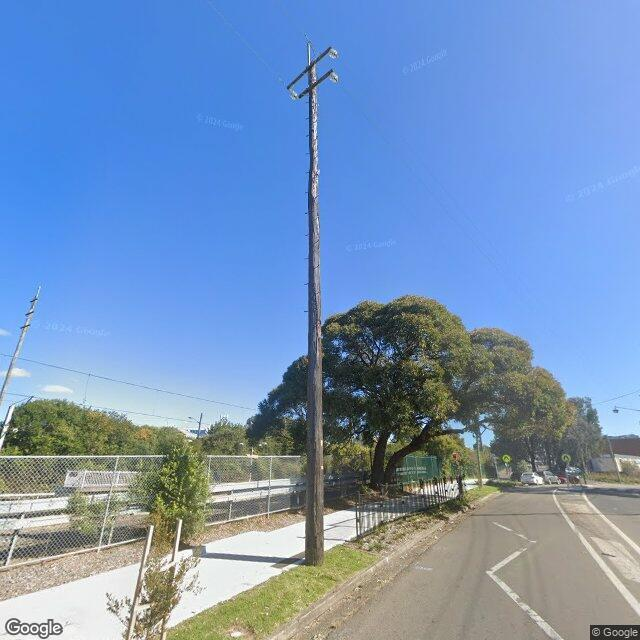HV-transmission: (288, 46, 340, 100)
crossarm: (286, 46, 332, 90), (298, 67, 333, 100), (20, 324, 31, 329), (24, 311, 34, 316), (30, 298, 39, 303)
streetlight: (188, 416, 200, 424)
timber-pole: (305, 62, 325, 566), (0, 283, 41, 407), (476, 431, 484, 488), (197, 413, 202, 439)
